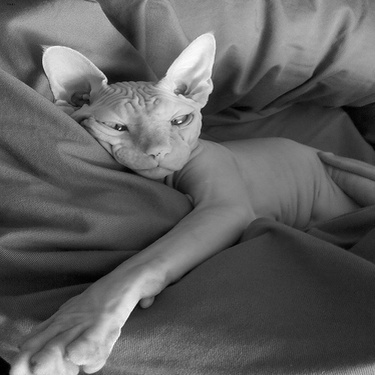cat: (8, 26, 368, 368)
